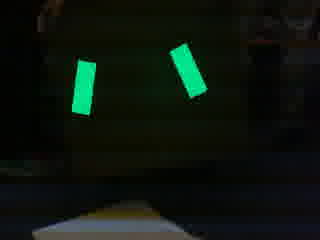target: (68, 42, 213, 118)
